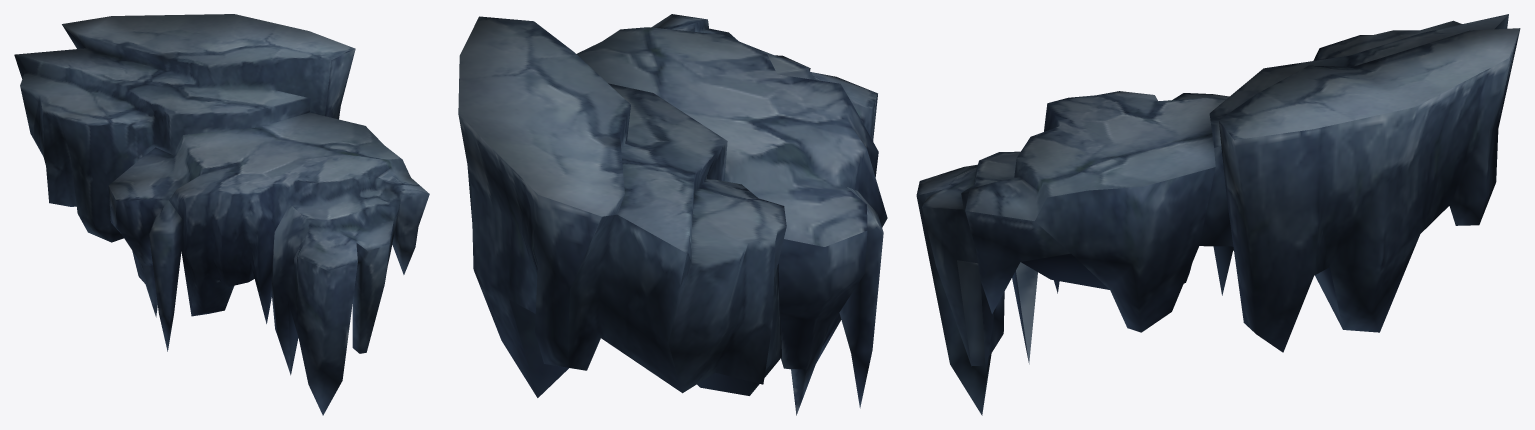
Rendered from Area_01_18.fbx.
3 renders of one model, left to right at view 1: azimuth 30°, elevation 25°; view 2: azimuth 150°, elevation 25°; view 3: azimuth 270°, elevation 25°, orthographic. The views are drawn at different scales.
Visible parts, largest first — view 1: Area_01_18; view 2: Area_01_18; view 3: Area_01_18.
Boxes of the visible parts, bbox=[...] form: Area_01_18: bbox=[14, 14, 429, 415]; Area_01_18: bbox=[458, 14, 887, 415]; Area_01_18: bbox=[916, 14, 1520, 415].
Size of the model in its own units: 1414 by 1423 by 2172.
